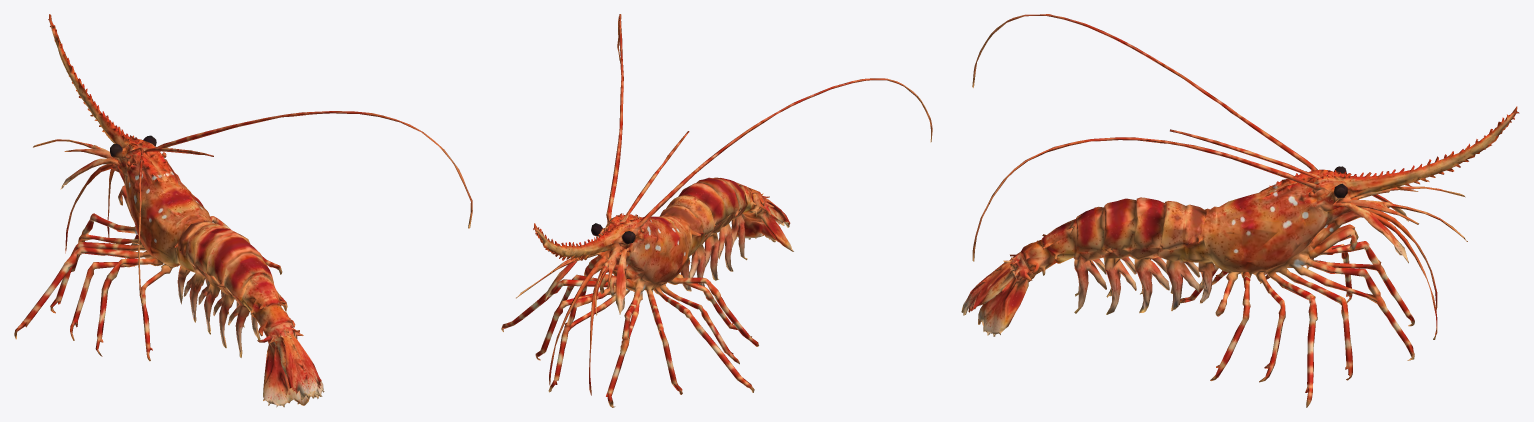
File: shrimp-mid.glb
The picture shows the model from 3 angles, left to right: view 1: azimuth 30°, elevation 25°; view 2: azimuth 150°, elevation 25°; view 3: azimuth 270°, elevation 25°; orthographic projection. The views are drawn at different scales.
Visible parts, largest first — view 1: tripo_node_a572f918-1d0d-4365-8549-0f45d34986db; view 2: tripo_node_a572f918-1d0d-4365-8549-0f45d34986db; view 3: tripo_node_a572f918-1d0d-4365-8549-0f45d34986db.
Boxes of the visible parts, box(x1,y1,x2,y2) form: tripo_node_a572f918-1d0d-4365-8549-0f45d34986db: box(14, 14, 472, 407); tripo_node_a572f918-1d0d-4365-8549-0f45d34986db: box(501, 14, 932, 407); tripo_node_a572f918-1d0d-4365-8549-0f45d34986db: box(961, 14, 1519, 407).
Size of the model in its own units: 0.1277 by 0.0907 by 0.1746.
1 material, 1 textured.
